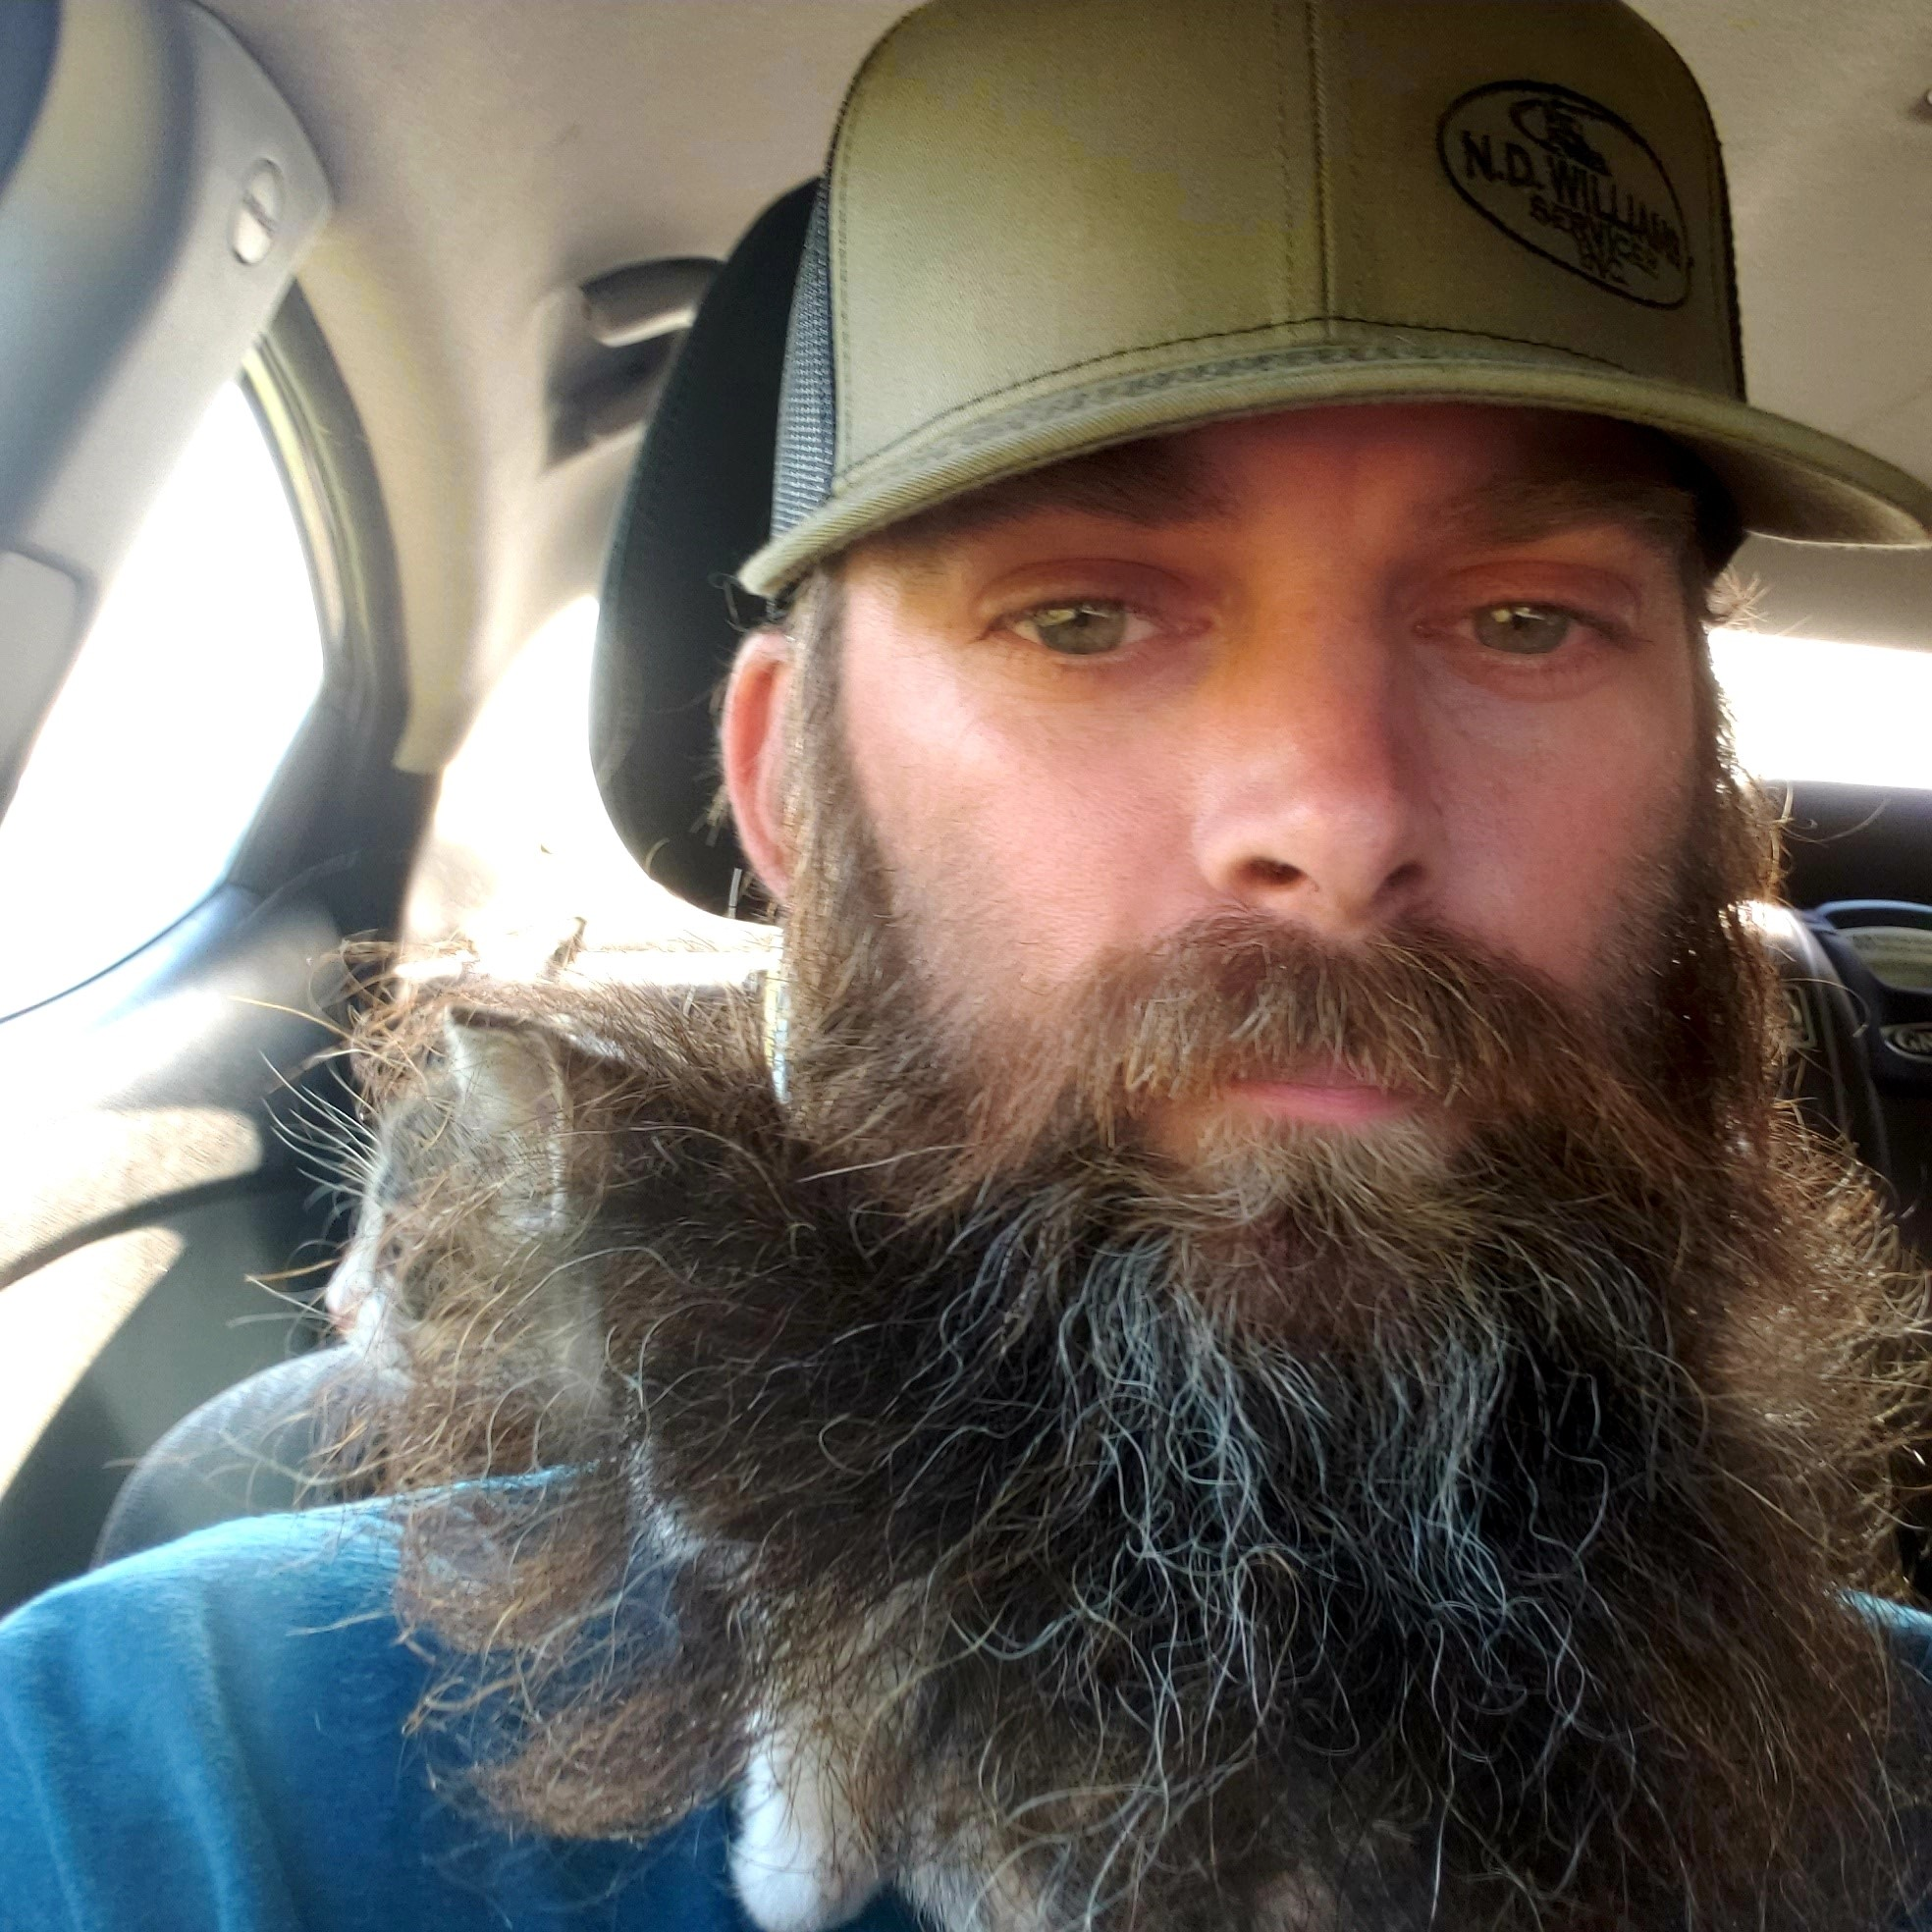face_no_mask: (765, 267, 1757, 1489)
